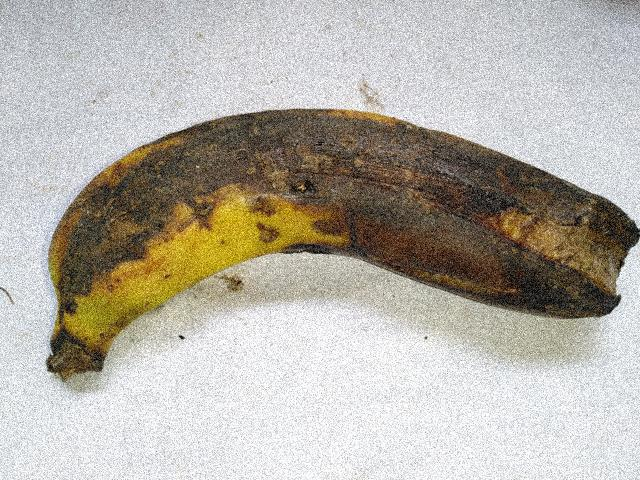rotten: (42, 79, 630, 358)
